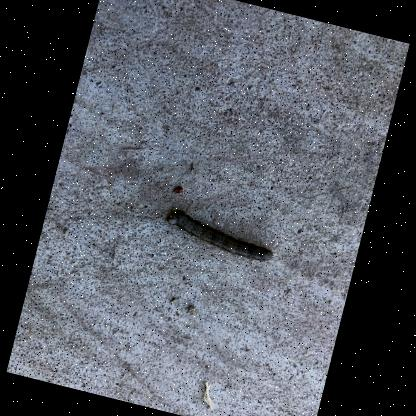Fall Armyworm Larvae: (158, 204, 280, 268)
